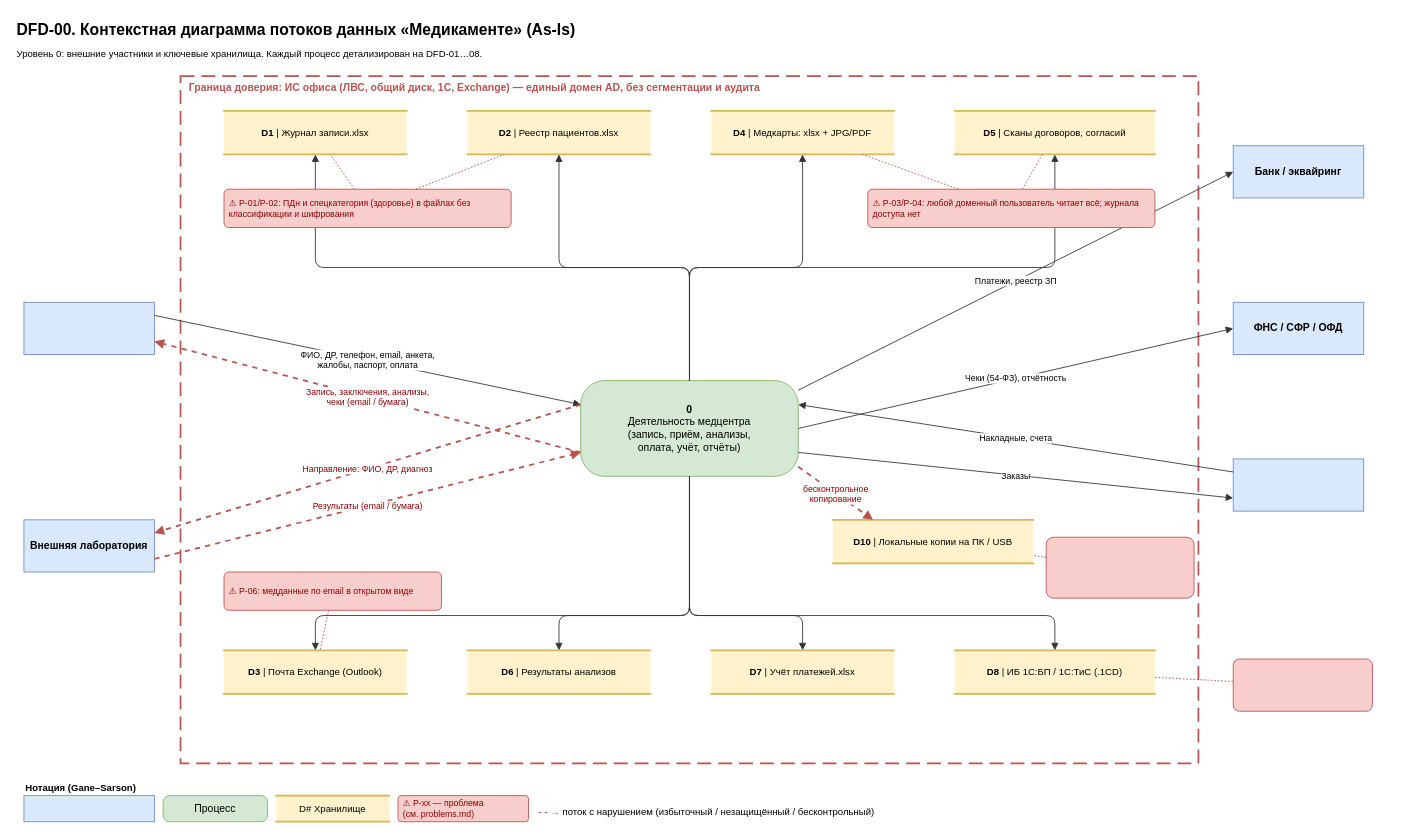
This 1404x837 diagram has some shape labels left out. Here are the shapes that lost their labels. From the top down, the centre of each, then its label:
At [88,328]: "Пациент".
At [1298,484]: "Поставщики ТМЦ".
At [1119,567]: "⚠ P-05/P-13: нет DLP и Data Lineage — неизвестно, где копии".
At [1302,684]: "⚠ P-09: всё на одном физическом сервере в офисе".
At [88,808]: "Внешняя сущность / роль".
